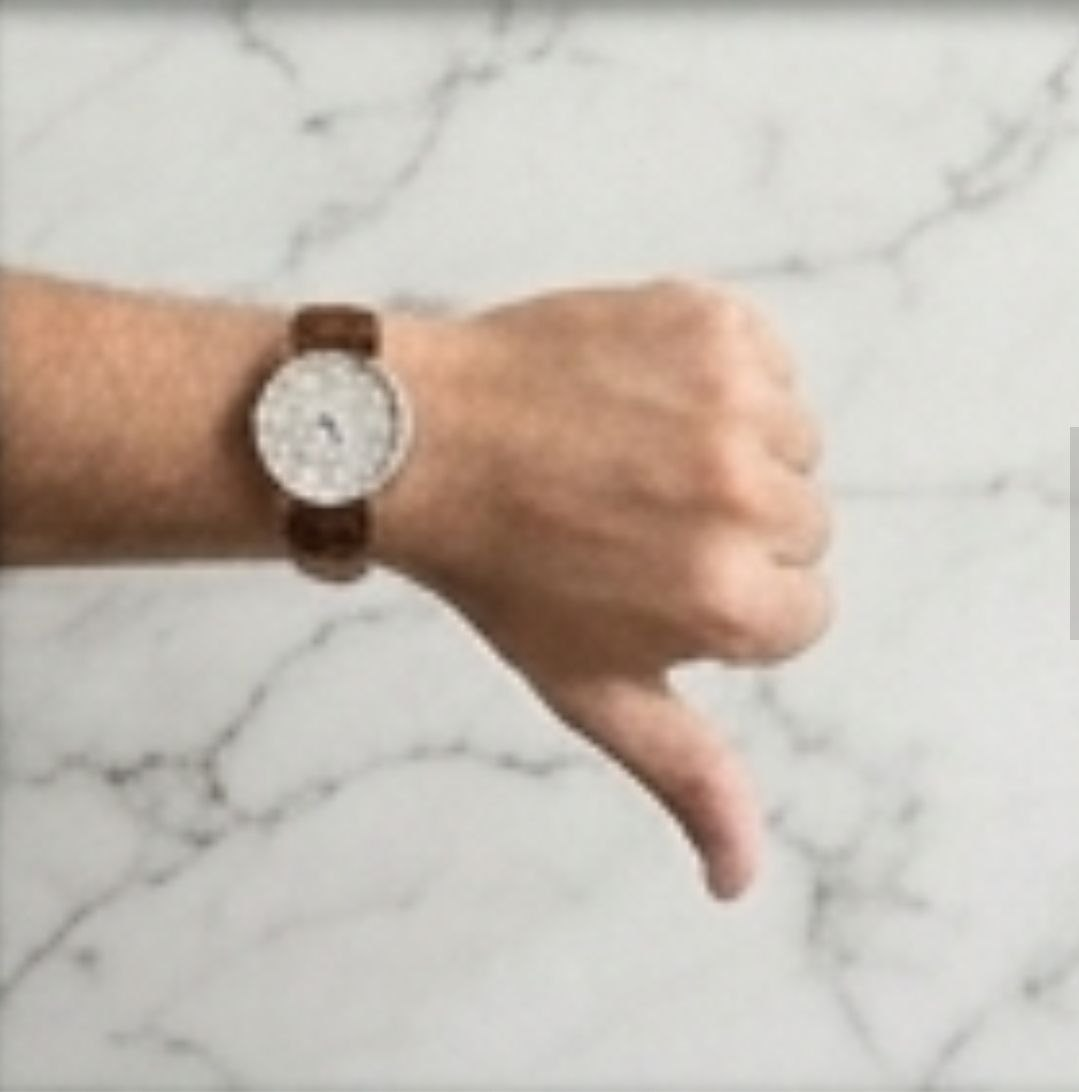Thumbs down: (406, 273, 867, 911)
